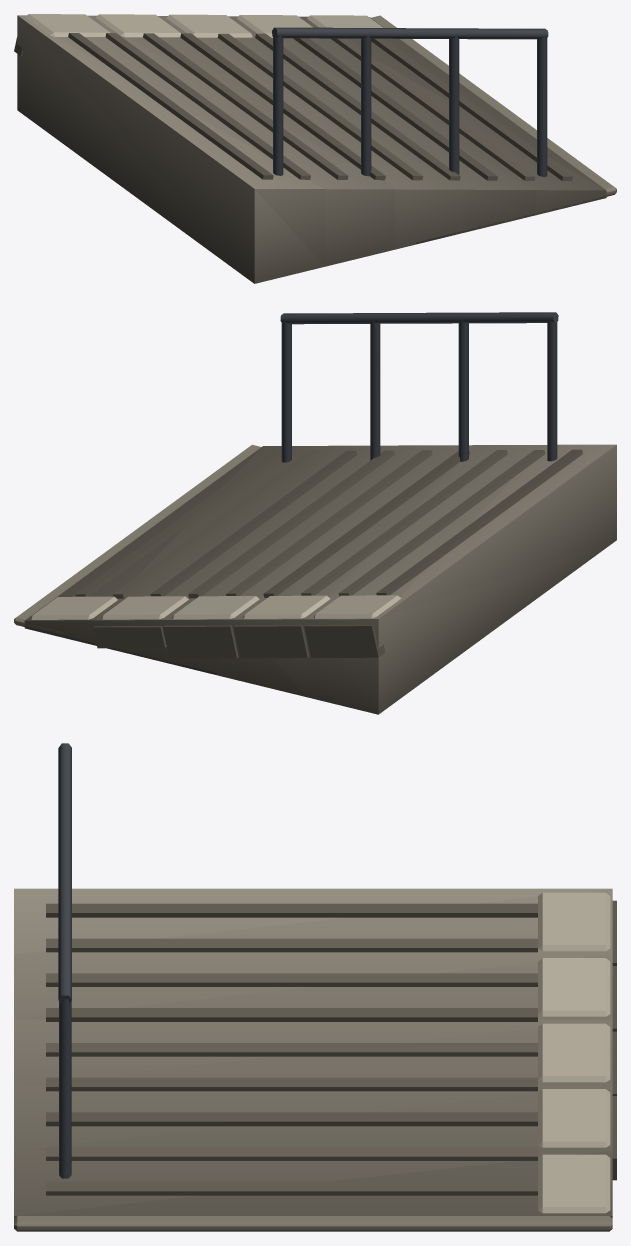
The model's file is platform-ramp-end.glb.
3 renders of one model, top to bottom at view 1: azimuth 30°, elevation 25°; view 2: azimuth 150°, elevation 25°; view 3: azimuth 270°, elevation 25°, orthographic. The views are drawn at different scales.
Visible parts, largest first — view 1: platform_ramp_end; view 2: platform_ramp_end; view 3: platform_ramp_end.
Boxes of the visible parts, x1=… form: platform_ramp_end: x1=14, y1=14, x2=616, y2=283; platform_ramp_end: x1=14, y1=312, x2=616, y2=714; platform_ramp_end: x1=14, y1=743, x2=616, y2=1231.
Bounding box in the file's own units: 2.49 × 1.52 × 2.82.
